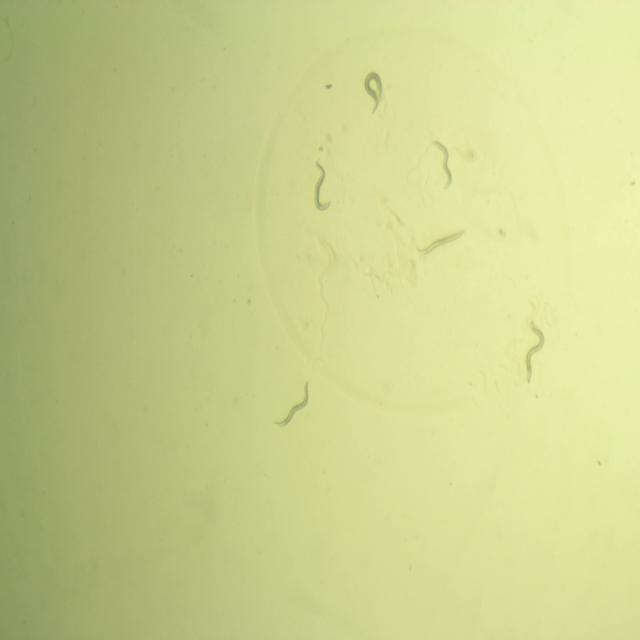worm: (271, 372, 313, 432), (519, 316, 550, 386), (413, 225, 470, 260), (425, 139, 461, 192), (310, 156, 338, 216), (359, 64, 386, 120)
